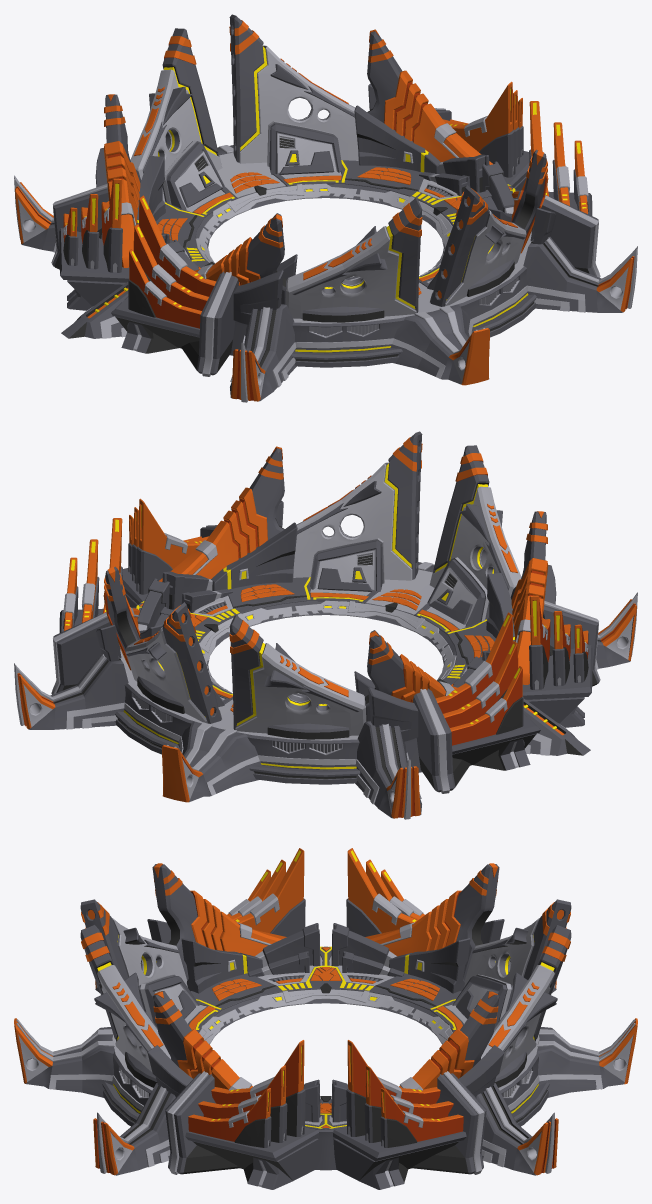
The model's file is arena_quadstrikecreature.fbx.
3 views of the same model, one above another, from view 1: azimuth 30°, elevation 25°; view 2: azimuth 150°, elevation 25°; view 3: azimuth 270°, elevation 25° (orthographic).
Parts seen in each view (by area): view 1: Quad_Creature_BeyStadium; view 2: Quad_Creature_BeyStadium; view 3: Quad_Creature_BeyStadium.
Boxes of the visible parts, x1,y1,x2,y2 form: Quad_Creature_BeyStadium: [14, 14, 637, 402]; Quad_Creature_BeyStadium: [14, 431, 637, 819]; Quad_Creature_BeyStadium: [14, 848, 637, 1189].
Size of the model in its own units: 45.57 by 14.45 by 49.04.
2 materials, 2 textured.
